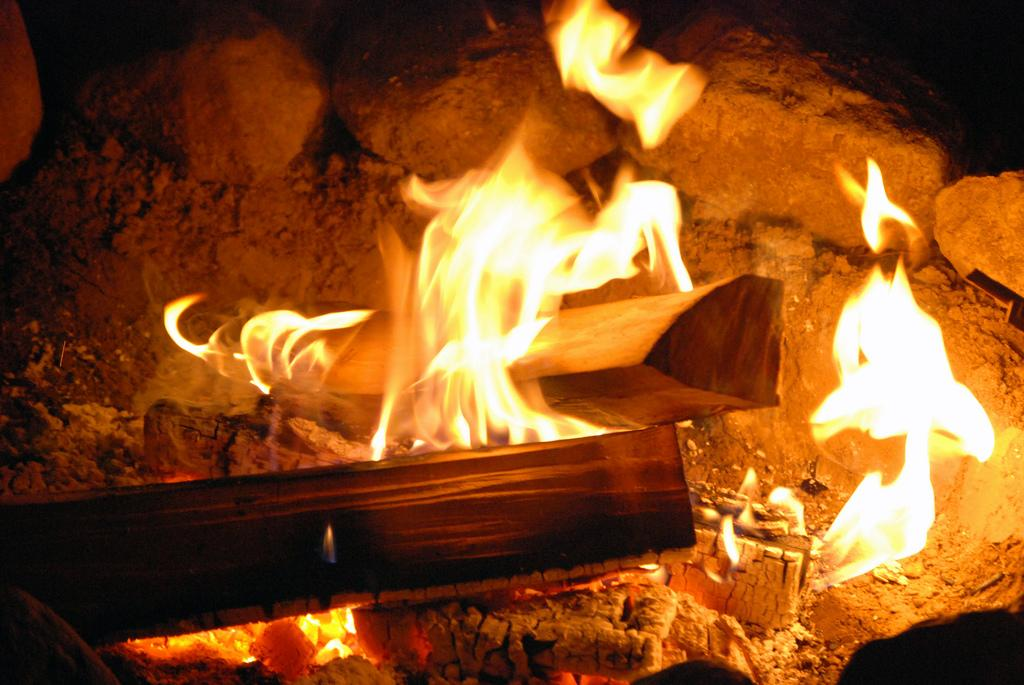fire: (428, 227, 540, 442), (850, 297, 955, 442)
